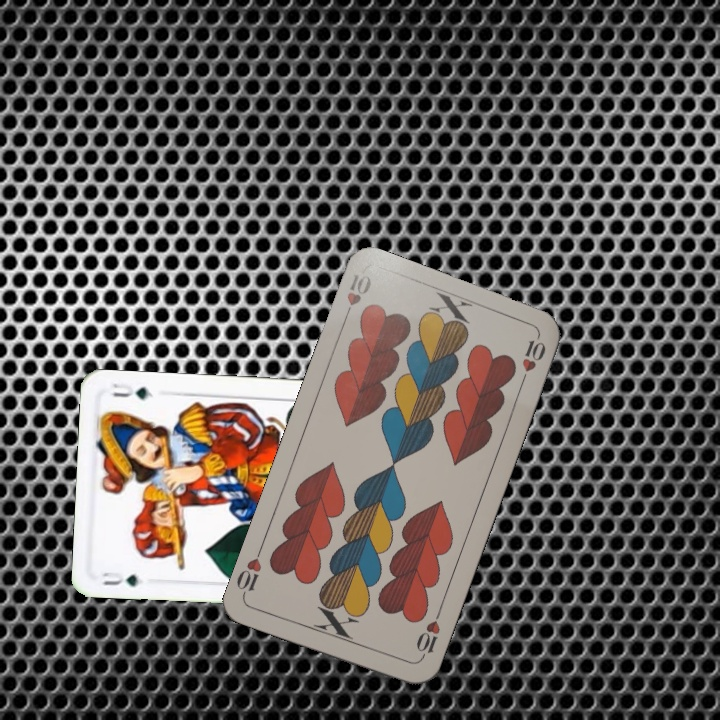GU: (98, 568, 141, 589)
H10: (338, 270, 374, 325), (412, 606, 444, 663)
